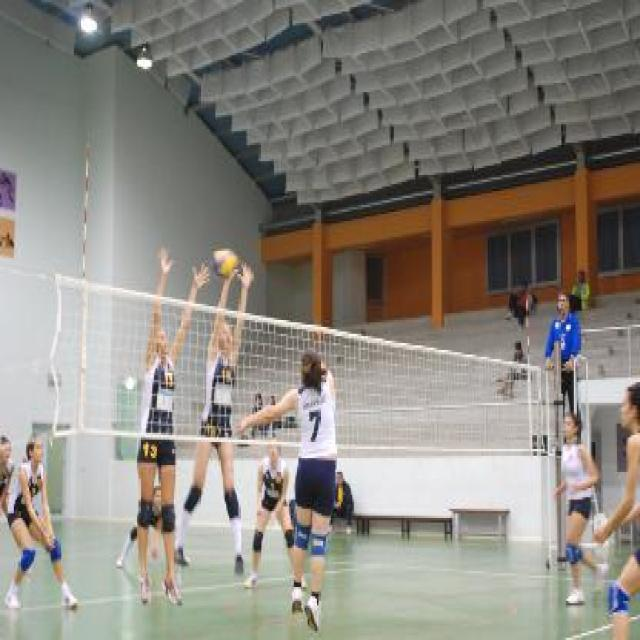volleyball: (209, 249, 239, 278)
